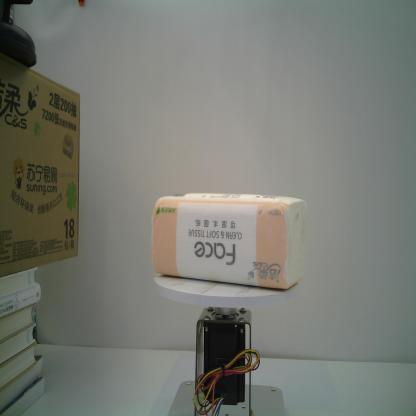Tissue: (150, 192, 308, 290)
